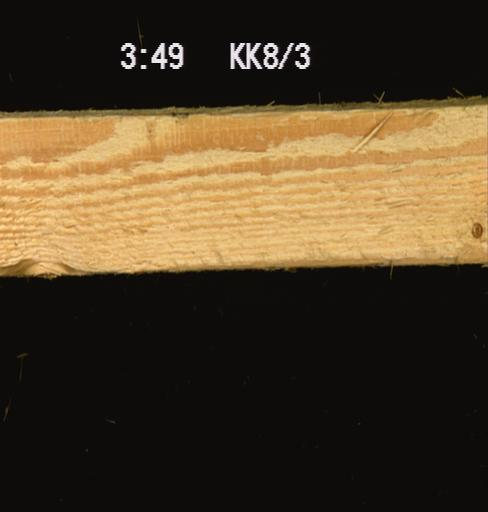dry_knot: (468, 218, 485, 240)
wave: (255, 254, 487, 270)
